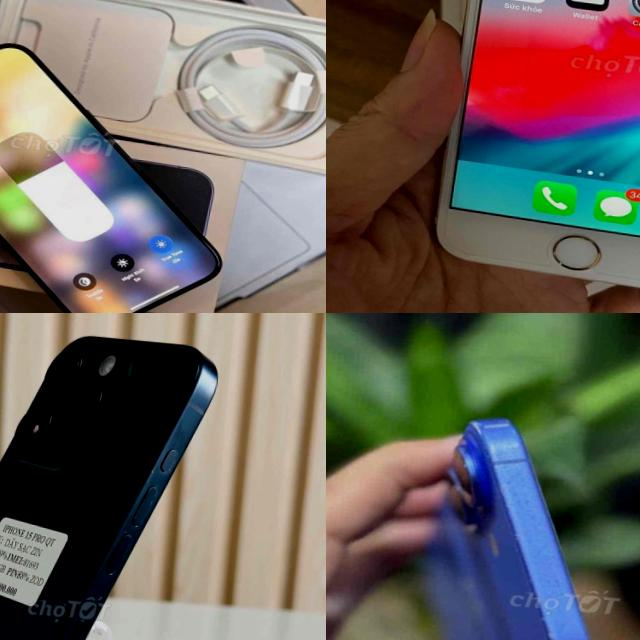scratch: (477, 463, 601, 640), (104, 451, 177, 568)
